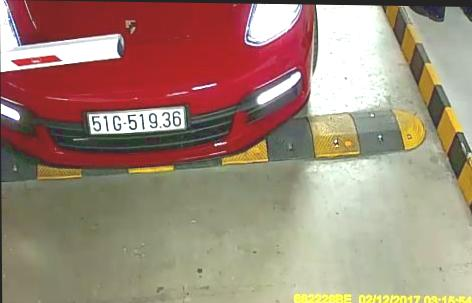License_Plate: (87, 105, 185, 134)
